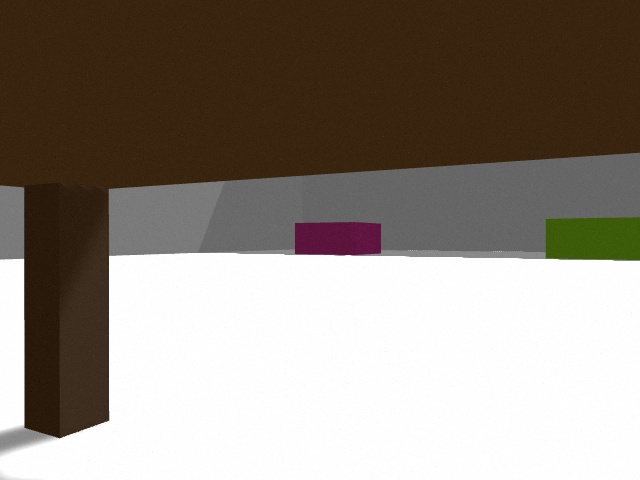green_drop_zone: (546, 217, 640, 260)
red_drop_zone: (295, 222, 381, 255)
